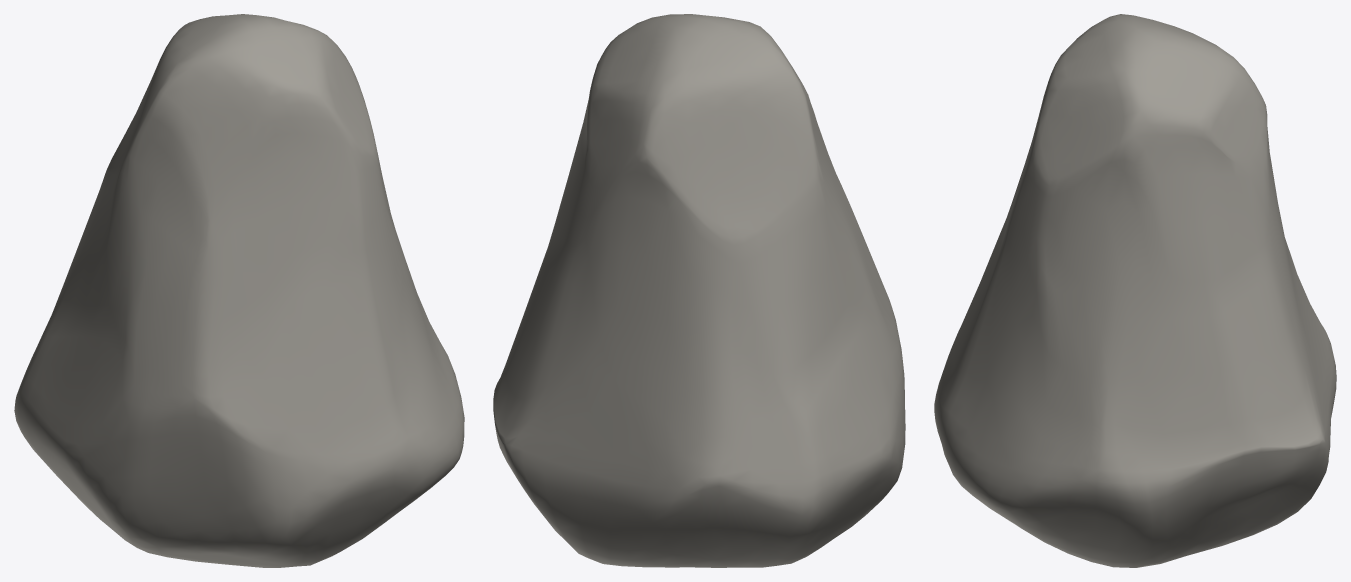
File: roca1.glb
3 renders of one model, left to right at view 1: azimuth 30°, elevation 25°; view 2: azimuth 150°, elevation 25°; view 3: azimuth 270°, elevation 25°, orthographic. The views are drawn at different scales.
Parts seen in each view (by area): view 1: Environment_Rock_2; view 2: Environment_Rock_2; view 3: Environment_Rock_2.
Boxes of the visible parts, <box> form: Environment_Rock_2: <box>14,14,464,567</box>; Environment_Rock_2: <box>493,14,905,567</box>; Environment_Rock_2: <box>934,14,1336,567</box>.
Size of the model in its own units: 0.7832 by 1.05 by 0.7585.
Materials: 1 (1 with a texture image).
